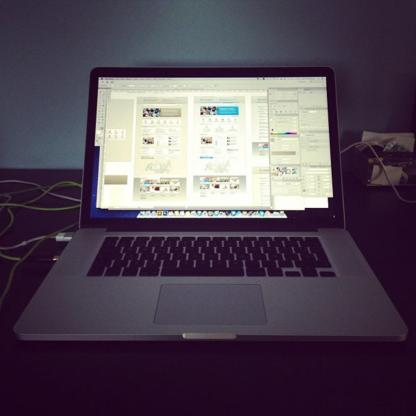board: (17, 56, 375, 366)
